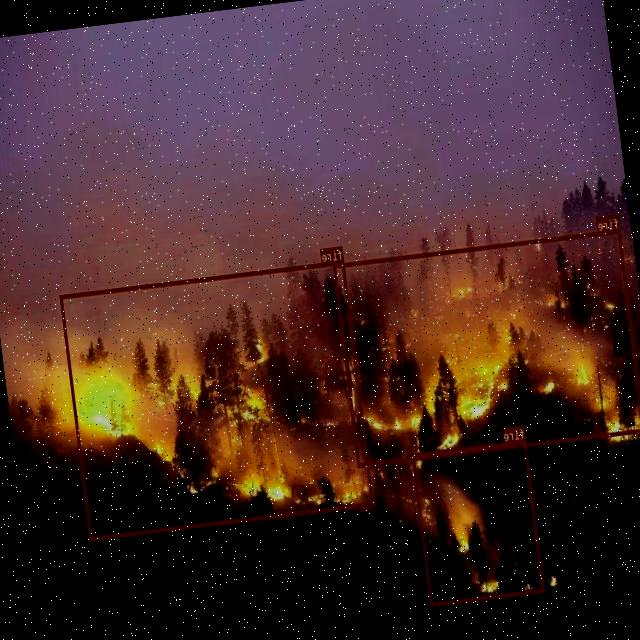fire: (60, 259, 374, 540), (333, 227, 640, 466), (412, 438, 545, 606)
